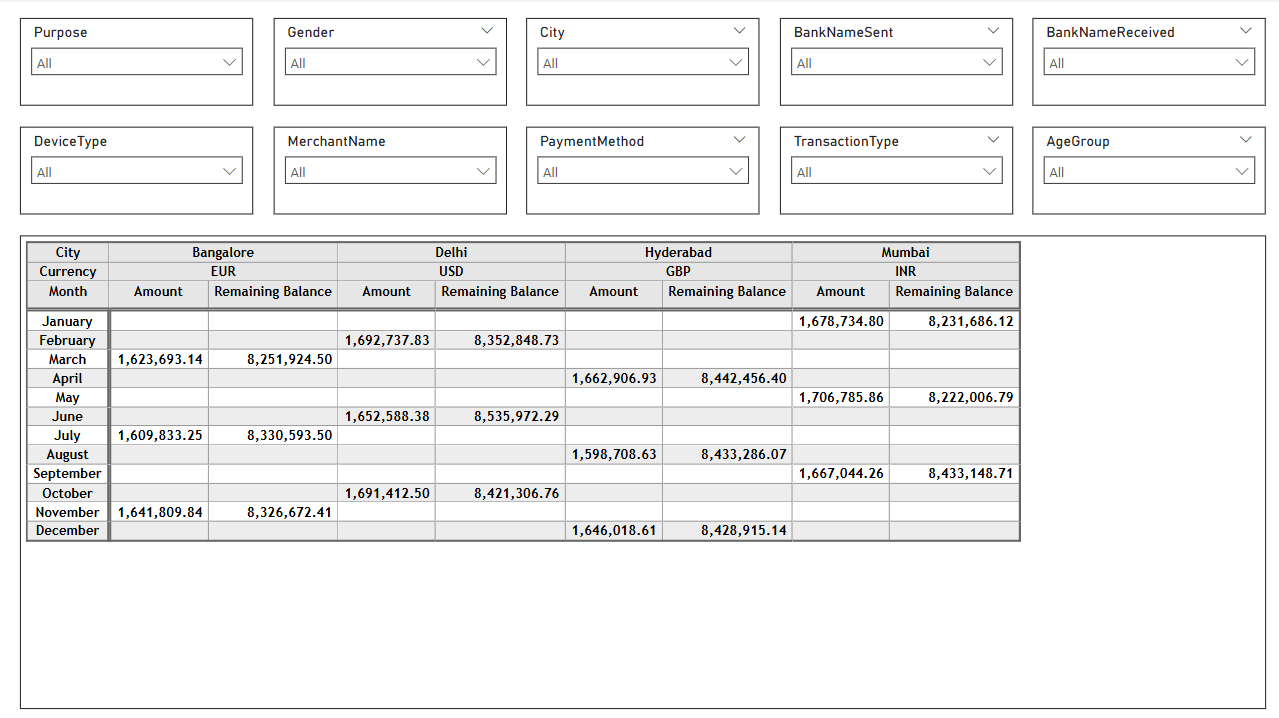

The dashboard page shown, as its layout file describes it:
{"tool":"powerbi","page":{"name":"Pivot ","canvas":[1280,720],"ordinal":1},"visuals":[{"type":"slicer","fields":{"Values":["UPI Transactions.Purpose"]},"box":[20,20,232,87.1],"z":0},{"type":"slicer","fields":{"Values":["UPI Transactions.Gender"]},"box":[272,20,232,87.1],"z":1000},{"type":"slicer","fields":{"Values":["UPI Transactions.City"]},"box":[524,20,232,87.1],"z":2000},{"type":"slicer","fields":{"Values":["UPI Transactions.BankNameReceived"]},"box":[1028,20,232,87.1],"z":3000},{"type":"slicer","fields":{"Values":["UPI Transactions.BankNameSent"]},"box":[776,20,232,87.1],"z":4000},{"type":"slicer","fields":{"Values":["UPI Transactions.DeviceType"]},"box":[20,127.5,232,87.1],"z":5000},{"type":"slicer","fields":{"Values":["UPI Transactions.MerchantName"]},"box":[272,127.5,232,87.1],"z":6000},{"type":"slicer","fields":{"Values":["UPI Transactions.PaymentMethod"]},"box":[524,127.5,232,87.1],"z":7000},{"type":"slicer","fields":{"Values":["UPI Transactions.AgeGroup"]},"box":[1028,127.5,232,87.1],"z":8000},{"type":"slicer","fields":{"Values":["UPI Transactions.TransactionType"]},"box":[776,127.5,232,87.1],"z":9000},{"type":"pivotTable","fields":{"Rows":["UPI Transactions.TransactionDate.Variation.Date Hierarchy.Month"],"Values":["Sum(UPI Transactions.Amount)","Sum(UPI Transactions.RemainingBalance)"],"Columns":["UPI Transactions.City","UPI Transactions.Currency"]},"box":[19.9,236.4,1240.2,471.5],"z":9001}]}

Visuals, with their boxes in screenshot pixels (x1, y1, x2, y2), scaled from the page's 1280x720 canvas onto the 1279x718 screenshot:
slicer - UPI Transactions.Purpose: region(20, 20, 252, 107)
slicer - UPI Transactions.Gender: region(272, 20, 504, 107)
slicer - UPI Transactions.City: region(524, 20, 755, 107)
slicer - UPI Transactions.BankNameReceived: region(1027, 20, 1259, 107)
slicer - UPI Transactions.BankNameSent: region(775, 20, 1007, 107)
slicer - UPI Transactions.DeviceType: region(20, 127, 252, 214)
slicer - UPI Transactions.MerchantName: region(272, 127, 504, 214)
slicer - UPI Transactions.PaymentMethod: region(524, 127, 755, 214)
slicer - UPI Transactions.AgeGroup: region(1027, 127, 1259, 214)
slicer - UPI Transactions.TransactionType: region(775, 127, 1007, 214)
pivotTable - UPI Transactions.TransactionDate.Variation.Date Hierarchy.Month x Sum(UPI Transactions.Amount): region(20, 236, 1259, 706)
